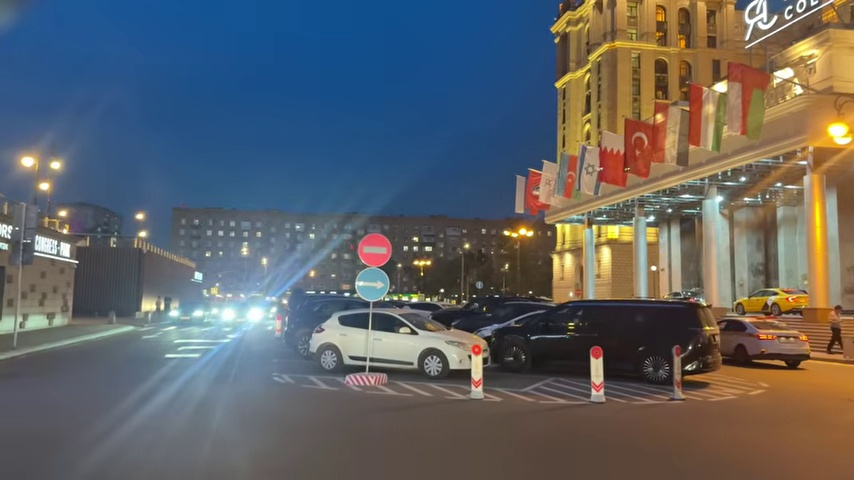acesa: (821, 117, 853, 151), (17, 152, 51, 177), (41, 156, 63, 178), (17, 152, 39, 172), (47, 157, 65, 174), (36, 180, 54, 195), (132, 209, 148, 223)
